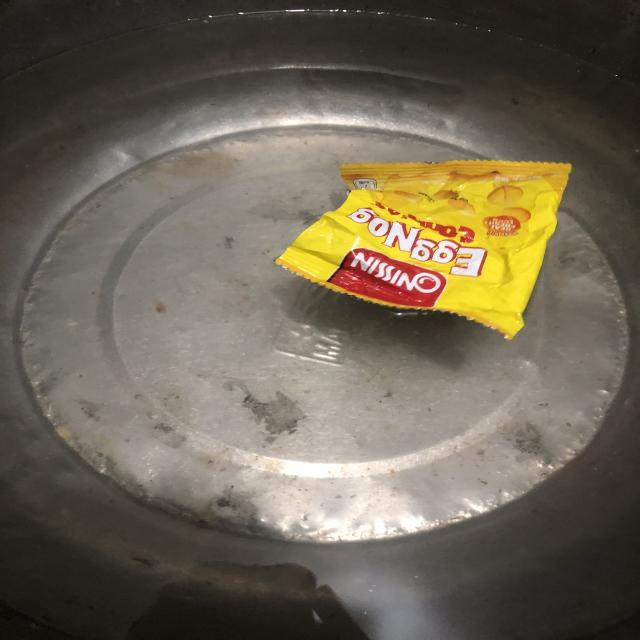Plastic Wrapper: (275, 160, 571, 338)
